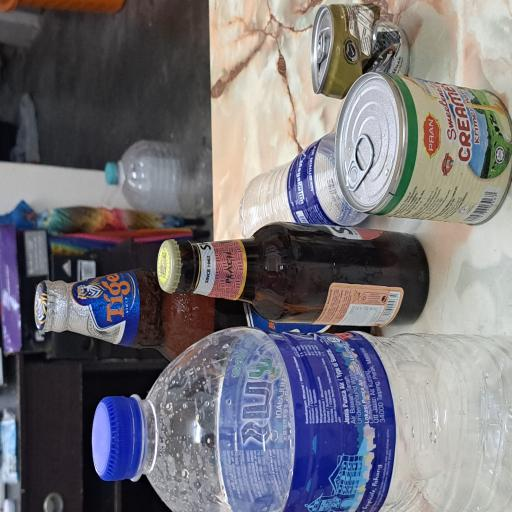can: (214, 442, 329, 512), (310, 410, 383, 512)
glass bottle: (137, 207, 217, 512), (116, 46, 184, 334)
plastic bottle: (0, 124, 137, 512), (206, 315, 286, 493)
plastic bottle cap: (20, 126, 90, 188)
pop tab: (240, 456, 286, 498), (334, 414, 364, 440)
